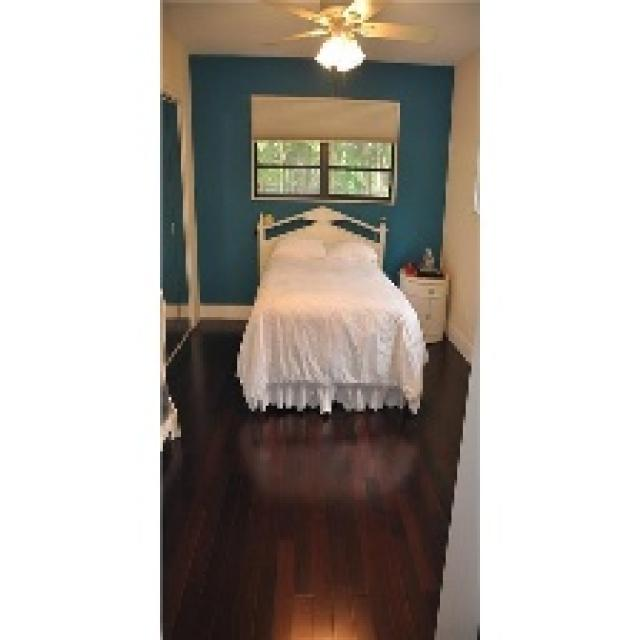Bed: (234, 203, 429, 414)
